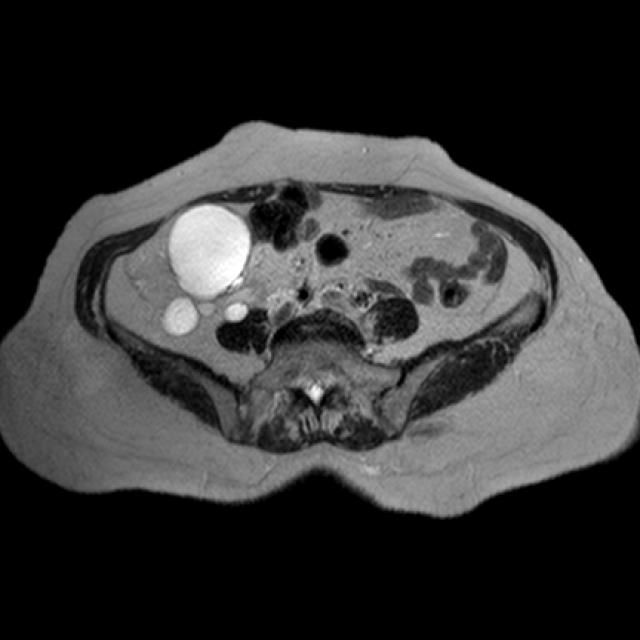sag: (160, 206, 255, 337)
